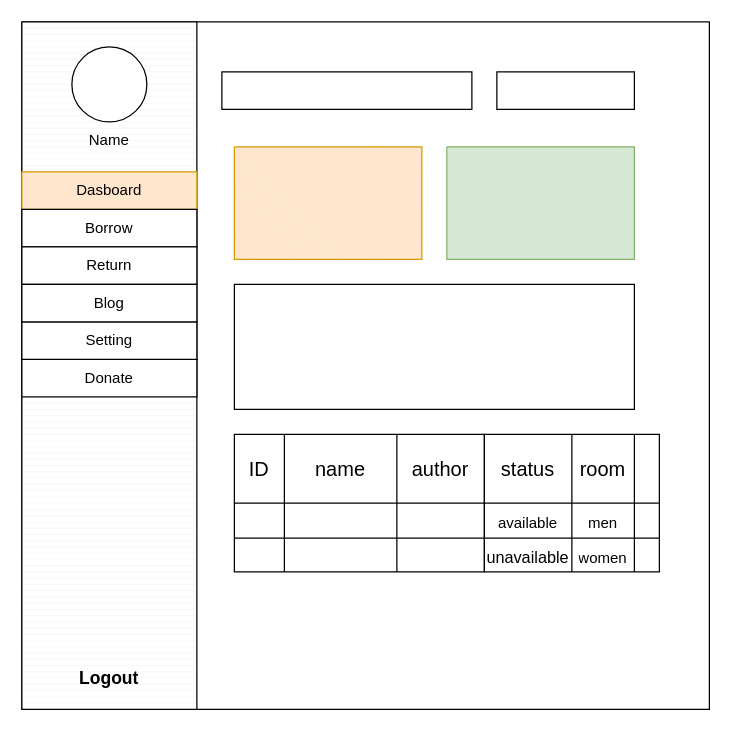
Some shapes in this 731 by 731 pixel diagram are drawn without their labels. Here are the shapes that lost their labels. From the top down, the centre of each, then its label:
(346,90): search
(565,90): category
(433,346): Graph
